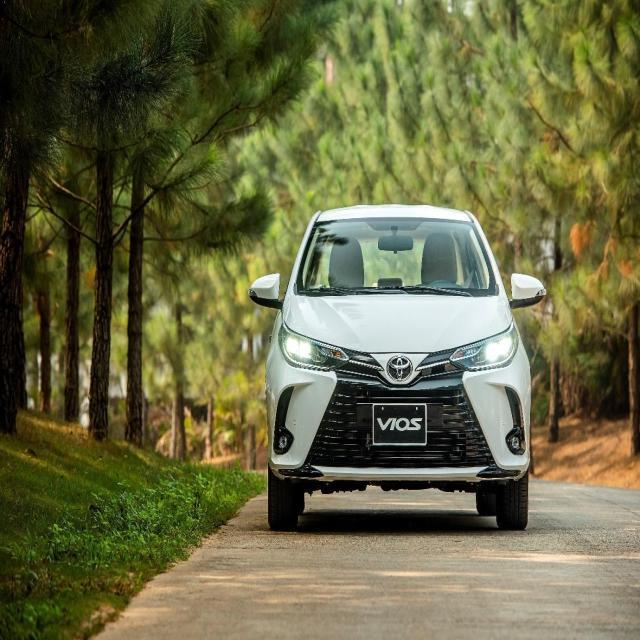ToyotaVios: (247, 202, 546, 532)
